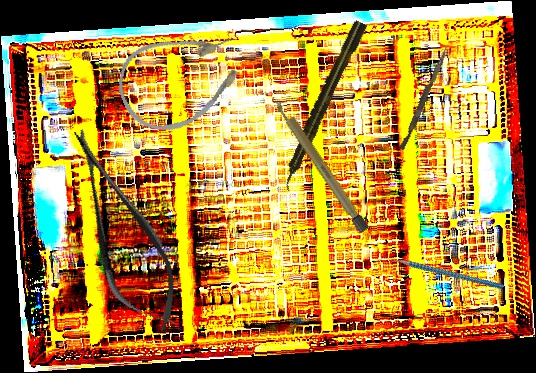Cannula: (106, 14, 257, 145)
Chopper: (373, 218, 505, 330)
Handpiece: (276, 18, 369, 193)
Micro Scissor: (50, 116, 195, 344)
Pusher: (399, 44, 449, 152)
Scalpel Handle: (271, 96, 371, 234)
